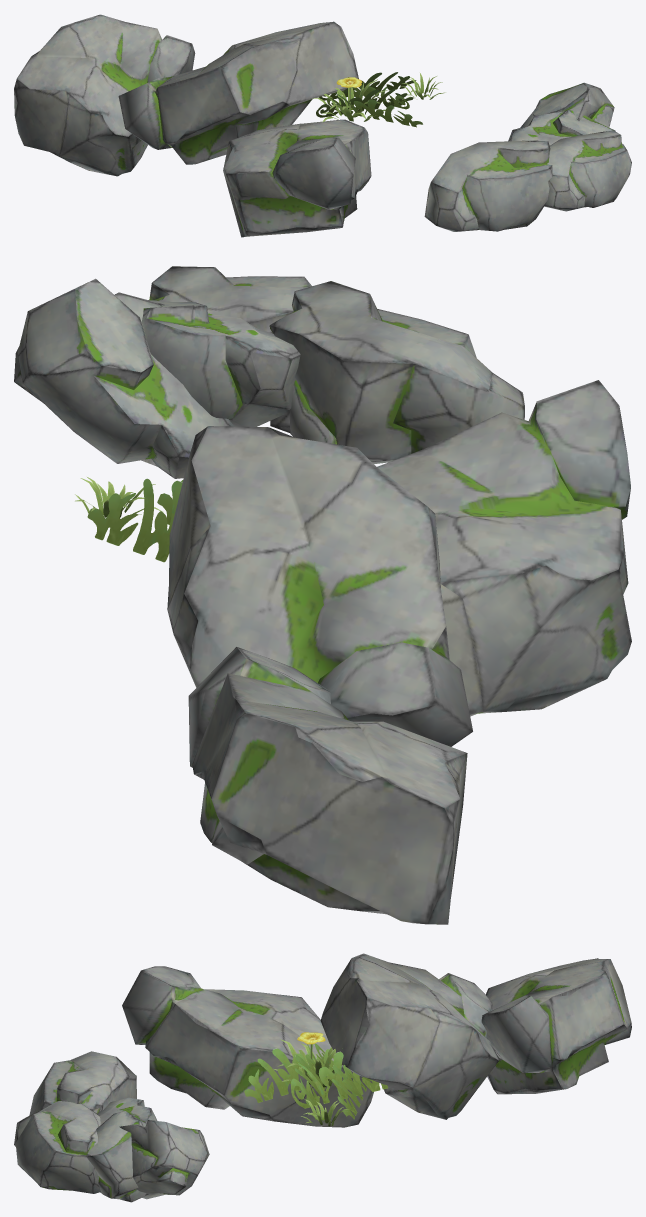
File: MainCityDecor_MonsterWork_Town.glb
The picture shows the model from 3 angles, top to bottom: view 1: azimuth 30°, elevation 25°; view 2: azimuth 150°, elevation 25°; view 3: azimuth 270°, elevation 25°; orthographic projection. The views are drawn at different scales.
Parts seen in each view (by area): view 1: SM_Gray_Stone_Small_03_LOD0__un1642374506144010096, SM_Gray_Stone_Small_03_LOD0_1__un8871413538802569072, SM_Gray_Stone_Small_03_LOD0__u3895193054560252048, SM_Gray_Stone_Small_02_LOD0__u1388042241151398032, SM_Gray_Stone_Small_02_LOD0__u3974805636371312784, EnvMaincity_Detail__Grass___1_17__un6863667240258244464, SM_Gray_Stone_Small_02_LOD0__u2661215329515663504, SM_Gray_Stone_Small_02_LOD0__un5772201471369482096, EnvForest_Detail__Grass___2__un6906190944097865584, EnvForest_Detail__Grass___2_1__un5710277133871812464; view 2: SM_Gray_Stone_Small_03_LOD0__un1642374506144010096, SM_Gray_Stone_Small_03_LOD0__u3895193054560252048, SM_Gray_Stone_Small_03_LOD0_1__un8871413538802569072, SM_Gray_Stone_Small_02_LOD0__u1388042241151398032, SM_Gray_Stone_Small_02_LOD0__u2661215329515663504, SM_Gray_Stone_Small_02_LOD0__un5772201471369482096, SM_Gray_Stone_Small_02_LOD0__u3974805636371312784, EnvMaincity_Detail__Grass___1_17__un6863667240258244464; view 3: SM_Gray_Stone_Small_03_LOD0__u3895193054560252048, SM_Gray_Stone_Small_03_LOD0__un1642374506144010096, SM_Gray_Stone_Small_03_LOD0_1__un8871413538802569072, SM_Gray_Stone_Small_02_LOD0__u3974805636371312784, SM_Gray_Stone_Small_02_LOD0__u2661215329515663504, SM_Gray_Stone_Small_02_LOD0__u1388042241151398032, EnvMaincity_Detail__Grass___1_17__un6863667240258244464, SM_Gray_Stone_Small_02_LOD0__un5772201471369482096, EnvForest_Detail__Grass___2__un6906190944097865584, EnvForest_Detail__Grass___2_1__un5710277133871812464.
Part boxes in pixels (left/top/right/bottom): SM_Gray_Stone_Small_03_LOD0__un1642374506144010096: left=118, top=21, right=358, bottom=164; SM_Gray_Stone_Small_03_LOD0_1__un8871413538802569072: left=14, top=14, right=195, bottom=176; SM_Gray_Stone_Small_03_LOD0__u3895193054560252048: left=223, top=119, right=371, bottom=237; SM_Gray_Stone_Small_02_LOD0__u1388042241151398032: left=424, top=140, right=552, bottom=231; SM_Gray_Stone_Small_02_LOD0__u3974805636371312784: left=544, top=130, right=631, bottom=211; EnvMaincity_Detail__Grass___1_17__un6863667240258244464: left=316, top=72, right=422, bottom=127; SM_Gray_Stone_Small_02_LOD0__u2661215329515663504: left=520, top=82, right=614, bottom=127; SM_Gray_Stone_Small_02_LOD0__un5772201471369482096: left=508, top=110, right=615, bottom=145; EnvForest_Detail__Grass___2__un6906190944097865584: left=312, top=79, right=394, bottom=122; EnvForest_Detail__Grass___2_1__un5710277133871812464: left=401, top=73, right=445, bottom=99; SM_Gray_Stone_Small_03_LOD0__un1642374506144010096: left=167, top=426, right=472, bottom=746; SM_Gray_Stone_Small_03_LOD0__u3895193054560252048: left=377, top=380, right=631, bottom=716; SM_Gray_Stone_Small_03_LOD0_1__un8871413538802569072: left=188, top=647, right=467, bottom=924; SM_Gray_Stone_Small_02_LOD0__u1388042241151398032: left=269, top=281, right=524, bottom=463; SM_Gray_Stone_Small_02_LOD0__u2661215329515663504: left=14, top=278, right=234, bottom=478; SM_Gray_Stone_Small_02_LOD0__un5772201471369482096: left=141, top=300, right=300, bottom=426; SM_Gray_Stone_Small_02_LOD0__u3974805636371312784: left=149, top=266, right=311, bottom=332; EnvMaincity_Detail__Grass___1_17__un6863667240258244464: left=87, top=478, right=183, bottom=562; SM_Gray_Stone_Small_03_LOD0__u3895193054560252048: left=122, top=966, right=373, bottom=1127; SM_Gray_Stone_Small_03_LOD0__un1642374506144010096: left=320, top=953, right=498, bottom=1119; SM_Gray_Stone_Small_03_LOD0_1__un8871413538802569072: left=481, top=958, right=631, bottom=1094; SM_Gray_Stone_Small_02_LOD0__u3974805636371312784: left=14, top=1101, right=100, bottom=1193; SM_Gray_Stone_Small_02_LOD0__u2661215329515663504: left=119, top=1120, right=209, bottom=1199; SM_Gray_Stone_Small_02_LOD0__u1388042241151398032: left=29, top=1051, right=136, bottom=1115; EnvMaincity_Detail__Grass___1_17__un6863667240258244464: left=244, top=1043, right=387, bottom=1119; SM_Gray_Stone_Small_02_LOD0__un5772201471369482096: left=86, top=1097, right=157, bottom=1202; EnvForest_Detail__Grass___2__un6906190944097865584: left=273, top=1039, right=341, bottom=1087; EnvForest_Detail__Grass___2_1__un5710277133871812464: left=301, top=1099, right=348, bottom=1126.
Bounding box in the file's own units: 6.87 × 2.62 × 8.01.
3 materials, 3 textured.
